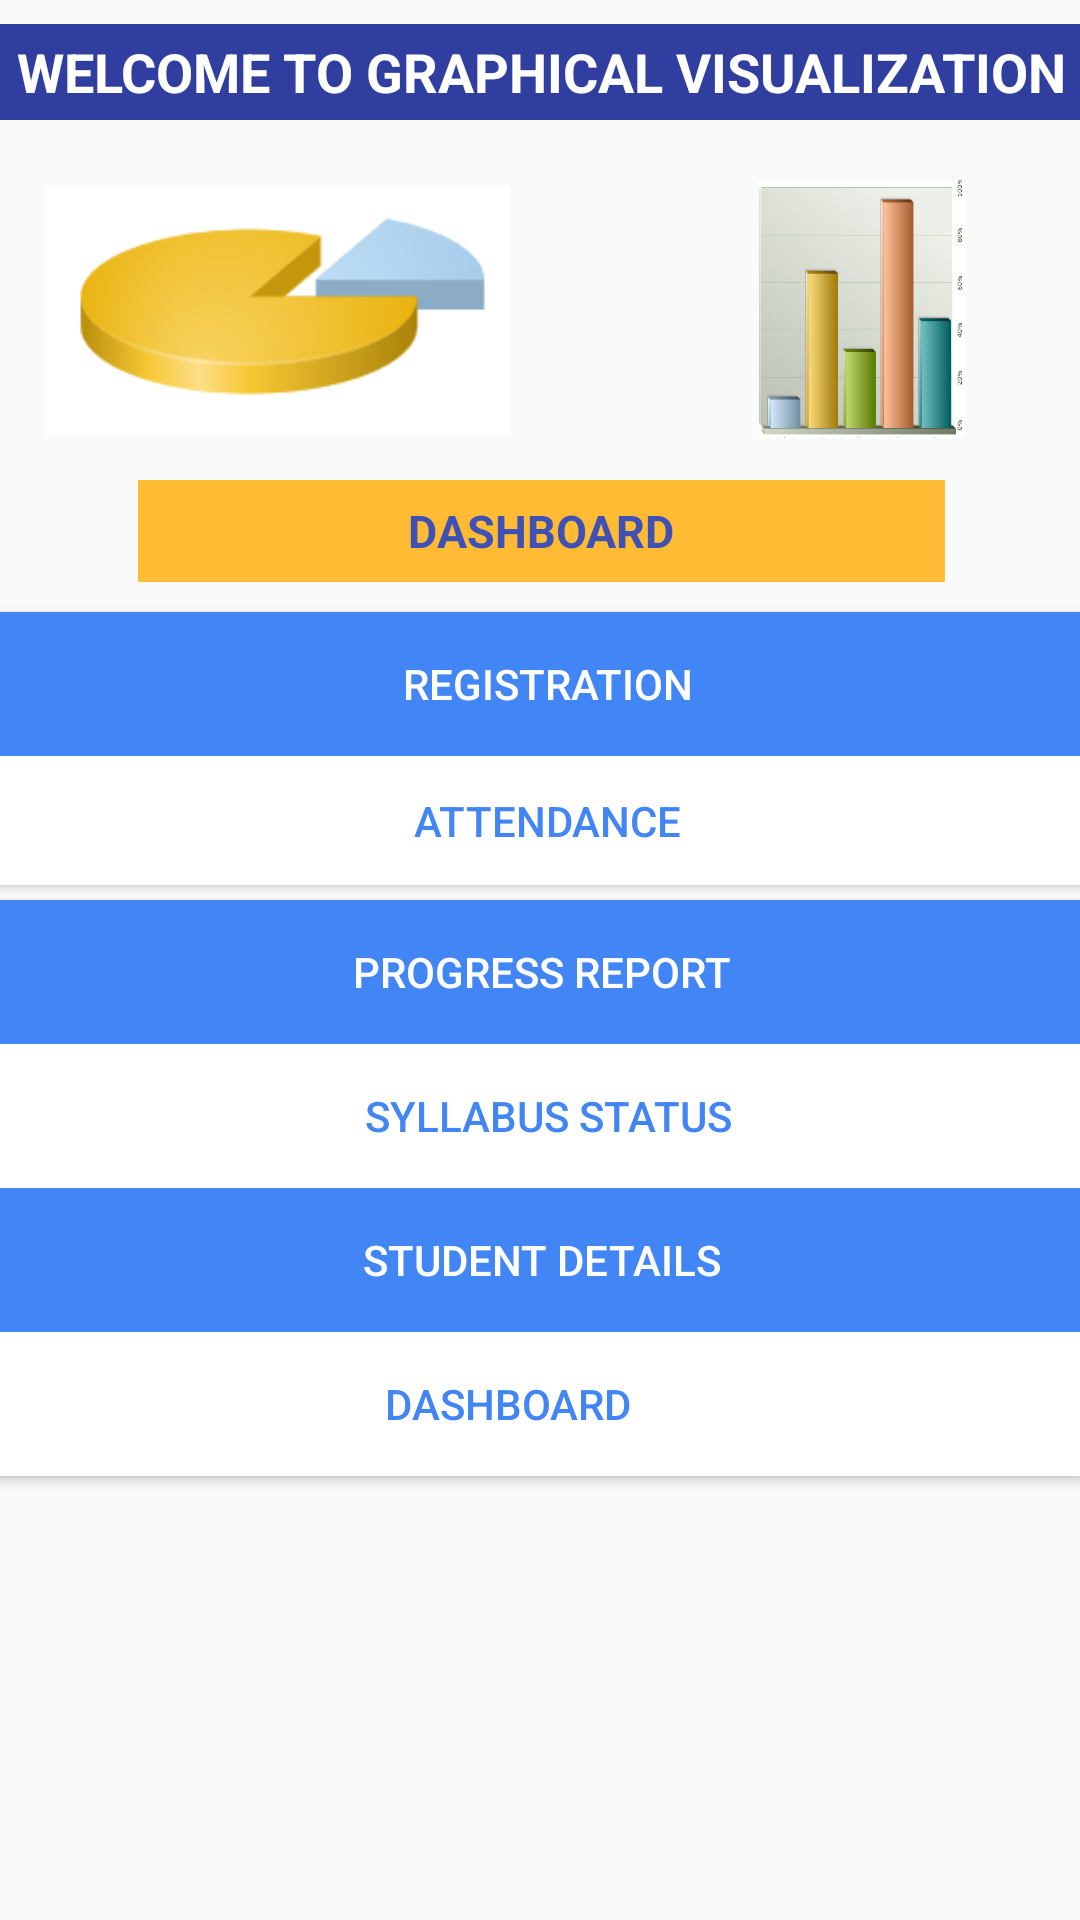

Icons on this 1080*1920 Android screen, each with the point to tap as [x,y]:
bar: [860,309]
